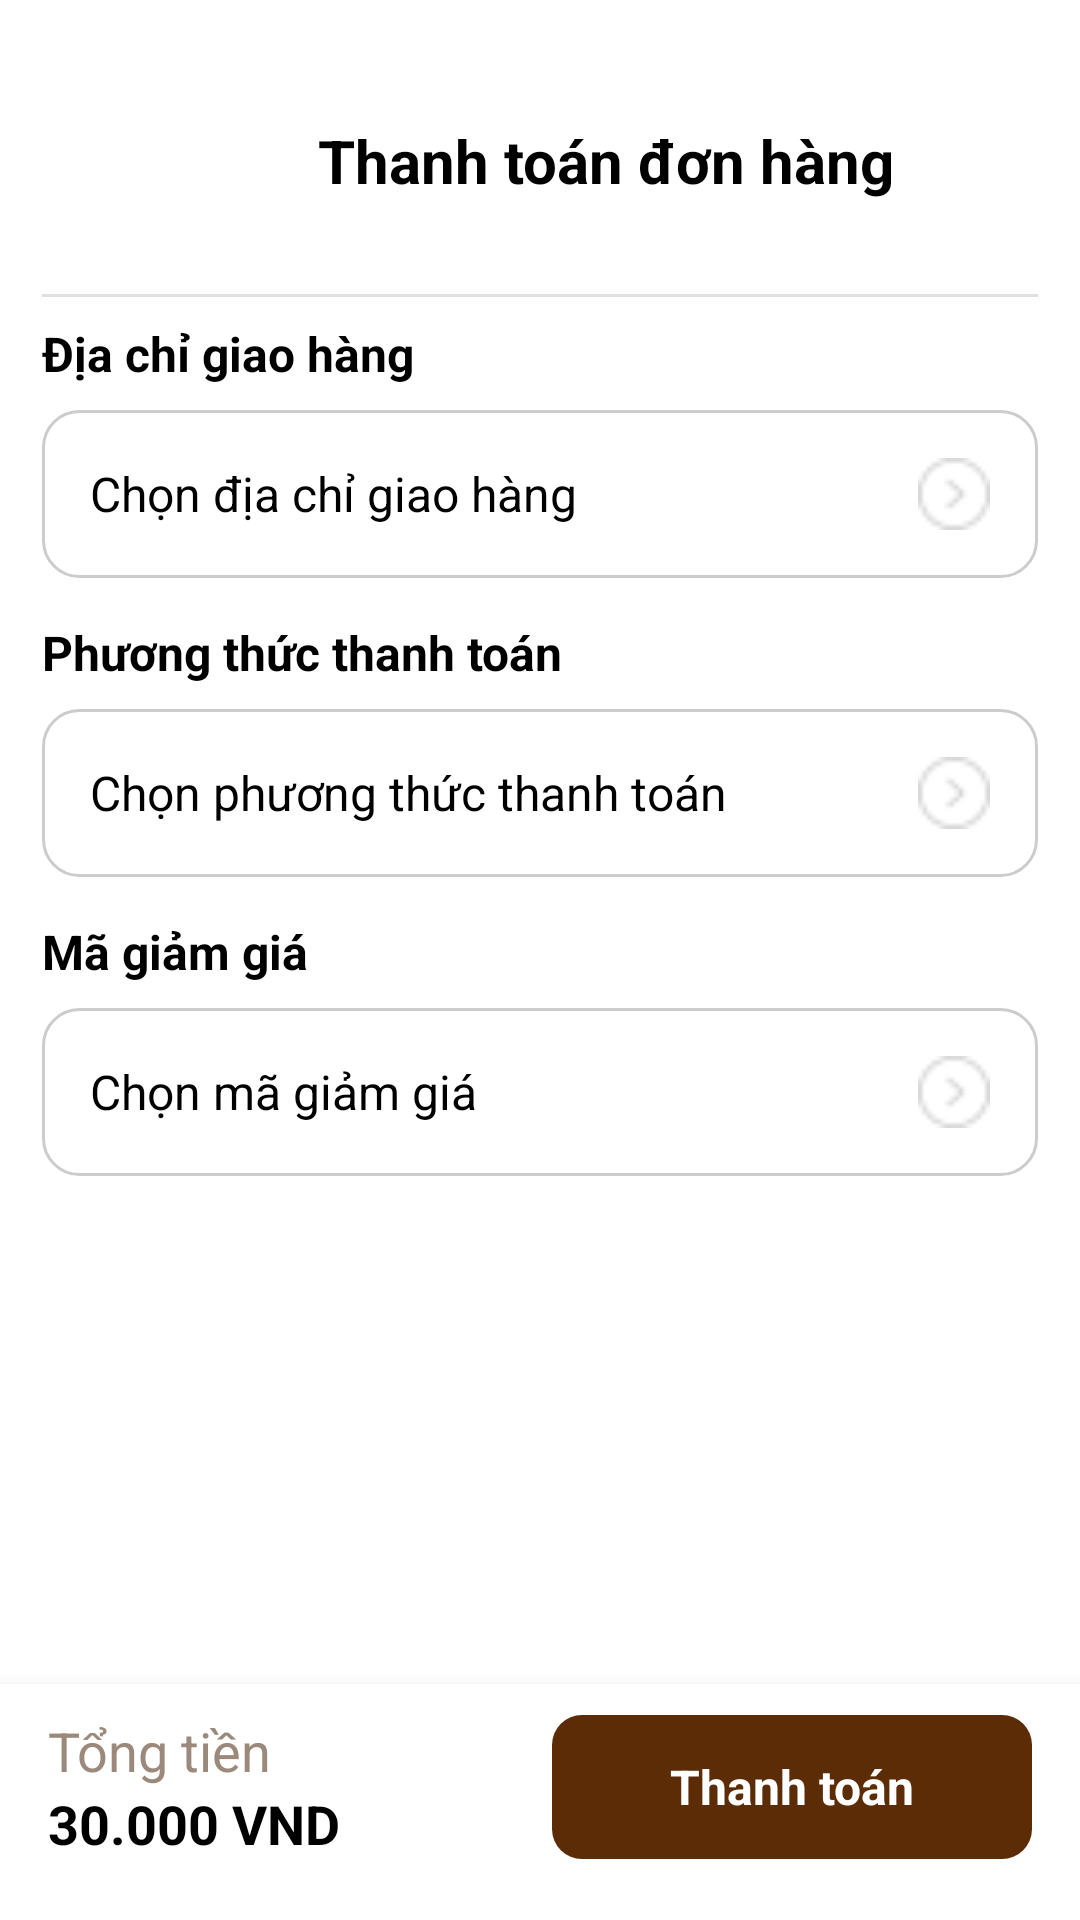

Point at icon controls on the screen. Image size 1080w x 1920h, points as (x=x, y=y).
arrow right: (x=954, y=494), (x=954, y=793), (x=954, y=1092)
